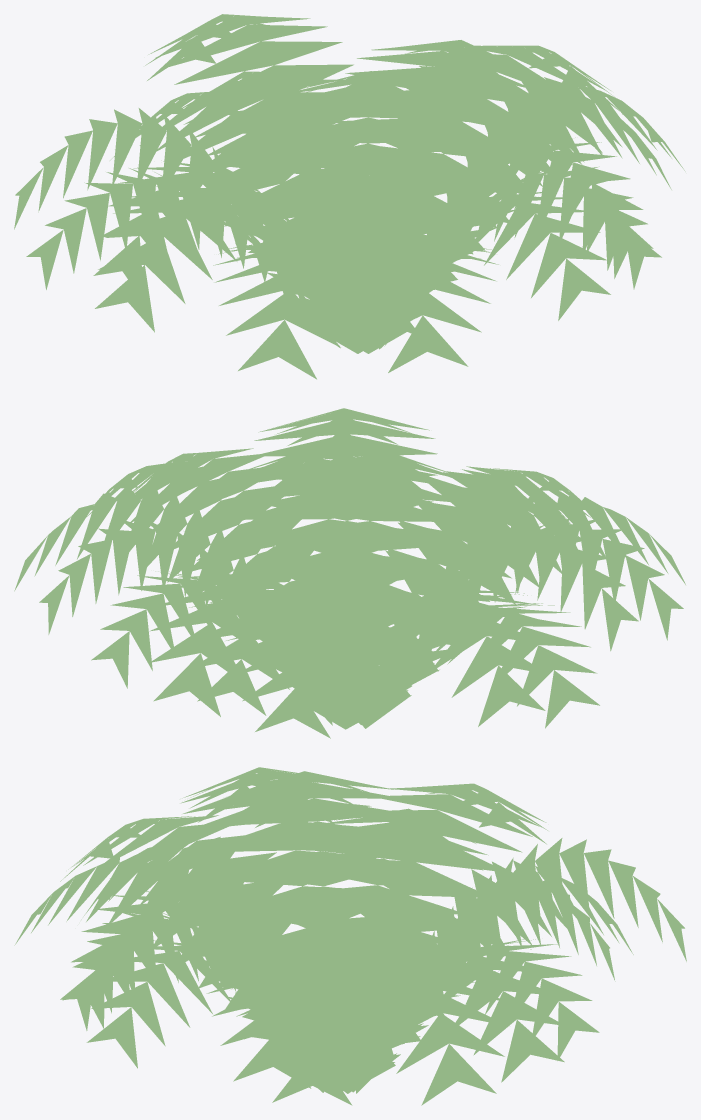
The model's file is Blender_Fern_1.glb.
3 views of the same model, one above another, from view 1: azimuth 30°, elevation 25°; view 2: azimuth 150°, elevation 25°; view 3: azimuth 270°, elevation 25° (orthographic). The views are drawn at different scales.
Visible parts, largest first — view 1: Blender_Fern_1; view 2: Blender_Fern_1; view 3: Blender_Fern_1.
Part boxes in pixels (bbox=[...]): Blender_Fern_1: bbox=[14, 14, 685, 379]; Blender_Fern_1: bbox=[14, 408, 685, 738]; Blender_Fern_1: bbox=[14, 767, 686, 1105].
Bounding box in the file's own units: 1.63 × 0.6203 × 1.61.
